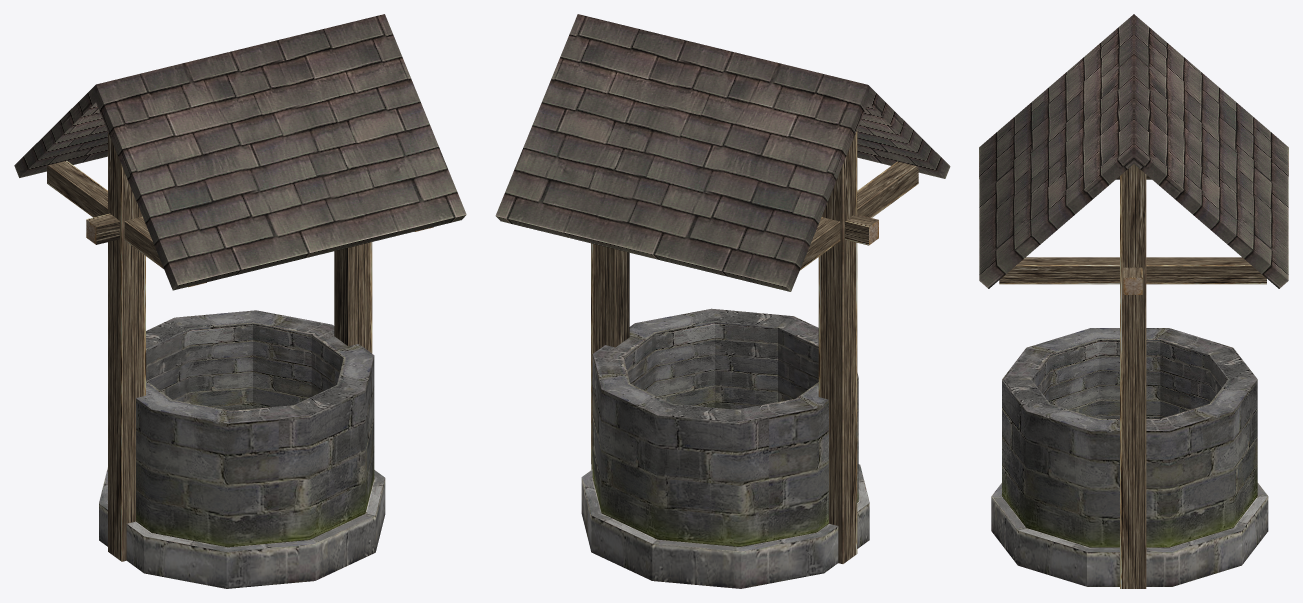
File: Well.FBX
3 renders of one model, left to right at view 1: azimuth 30°, elevation 25°; view 2: azimuth 150°, elevation 25°; view 3: azimuth 270°, elevation 25°, orthographic. The views are drawn at different scales.
Visible parts, largest first — view 1: Well; view 2: Well; view 3: Well.
Part boxes in pixels (x1,y1,x2,y2): Well: (14,14,466,588); Well: (495,14,950,588); Well: (979,14,1288,588).
Bounding box in the file's own units: 253 × 389 × 242.
